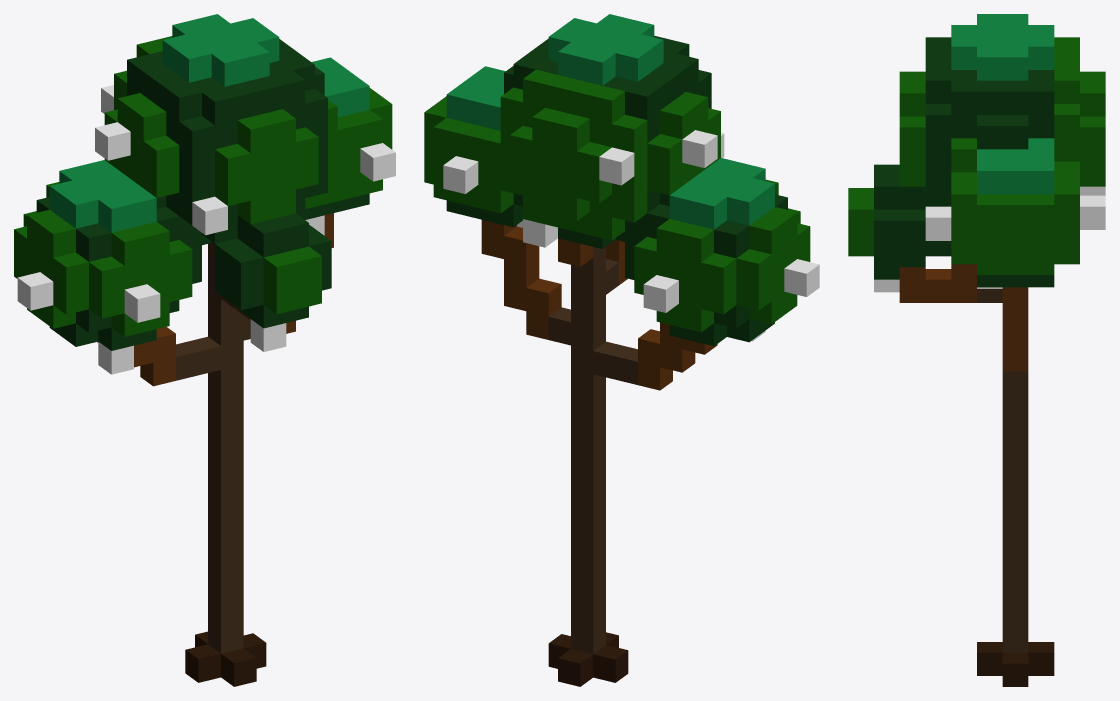
Rendered from Ftree1.fbx.
3 views of the same model, side by side, from view 1: azimuth 30°, elevation 25°; view 2: azimuth 150°, elevation 25°; view 3: azimuth 270°, elevation 25° (orthographic).
Visible parts, largest first — view 1: FruitTree_1 (2); view 2: FruitTree_1 (2); view 3: FruitTree_1 (2).
Part boxes in pixels (x1,y1,x2,y2): FruitTree_1 (2): (14,14,395,686); FruitTree_1 (2): (424,14,819,686); FruitTree_1 (2): (848,14,1105,686).
Bounding box in the file's own units: 96 × 162 × 60.
